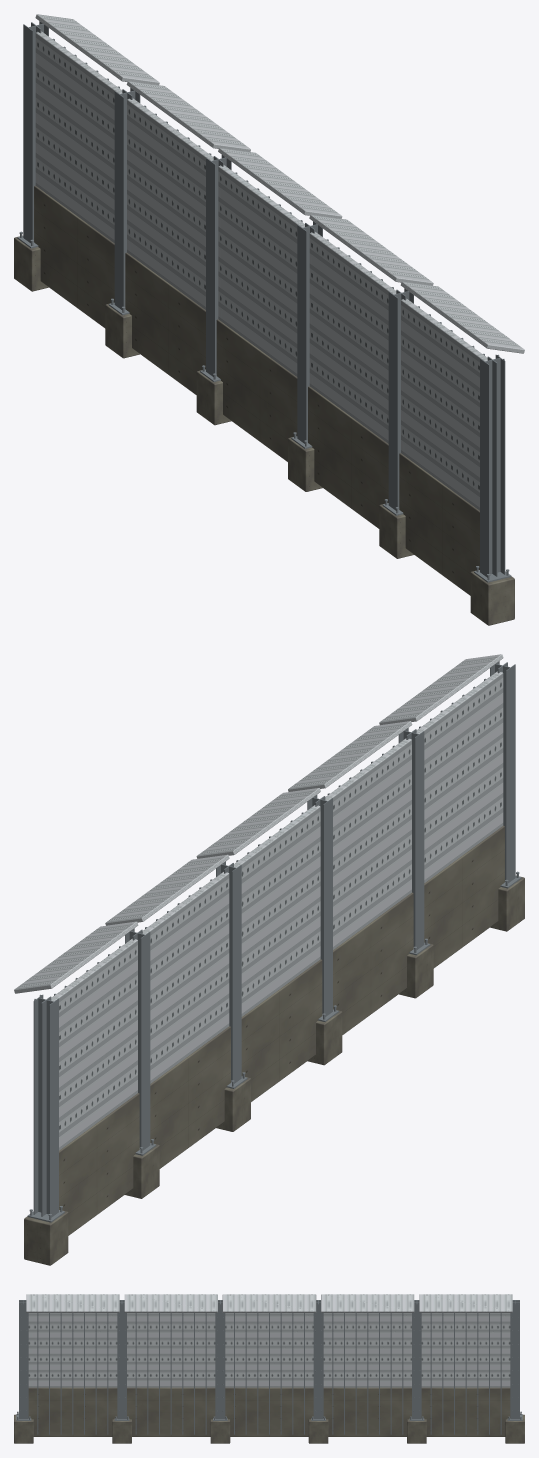
The picture shows the model from 3 angles, top to bottom: view 1: azimuth 30°, elevation 25°; view 2: azimuth 150°, elevation 25°; view 3: azimuth 270°, elevation 25°; orthographic projection. The views are drawn at different scales.
Parts seen in each view (by area): view 1: opt_panel_metal (×5), opt_panel_mix (×5), jp-exp-noise-wall, opt_cap_on; view 2: opt_panel_metal (×5), opt_panel_mix (×5), jp-exp-noise-wall, opt_cap_on; view 3: opt_panel_metal (×29), opt_panel_mix (×5), jp-exp-noise-wall, opt_cap_on.
Boxes of the visible parts, x1,y1,x2,y2 form: opt_panel_metal (×5): (35, 31, 487, 510); opt_panel_mix (×5): (34, 185, 479, 595); jp-exp-noise-wall: (14, 21, 514, 625); opt_cap_on: (35, 14, 524, 353); opt_panel_metal (×5): (51, 671, 503, 1150); opt_panel_mix (×5): (59, 825, 504, 1235); jp-exp-noise-wall: (24, 661, 524, 1265); opt_cap_on: (14, 654, 503, 993); opt_panel_metal (×29): (28, 1313, 510, 1434); opt_panel_mix (×5): (28, 1387, 510, 1436); jp-exp-noise-wall: (14, 1300, 524, 1443); opt_cap_on: (26, 1294, 512, 1312).
Size of the model in its own units: 0.6111 by 3.27 by 10.4.
4 materials, 2 textured.
